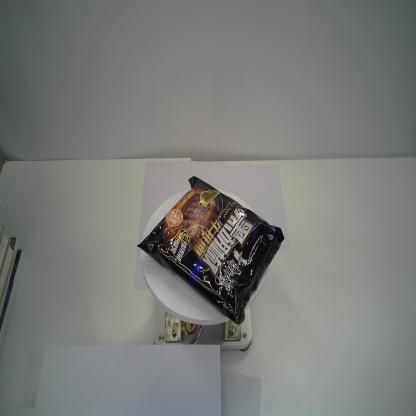Instant Noodles: (135, 173, 286, 327)
